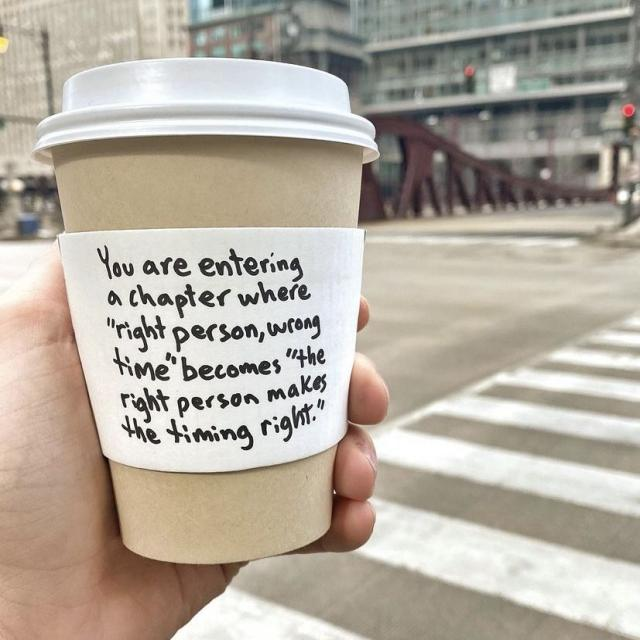paper cup: (34, 58, 380, 565)
